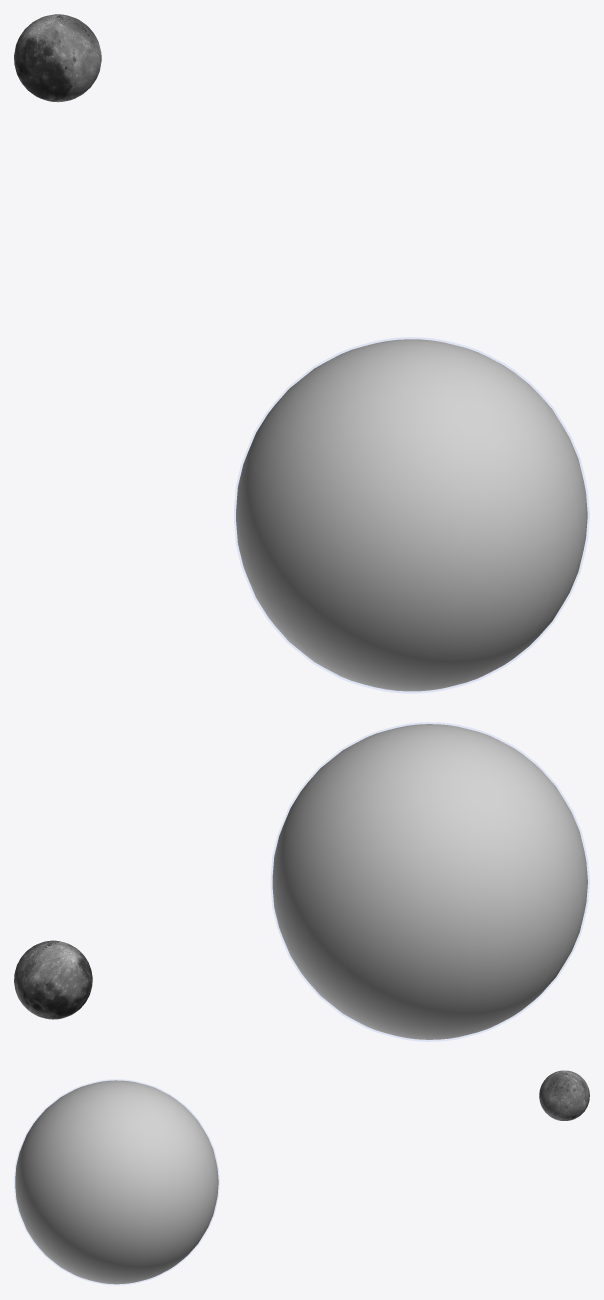
3 renders of one model, top to bottom at view 1: azimuth 30°, elevation 25°; view 2: azimuth 150°, elevation 25°; view 3: azimuth 270°, elevation 25°, orthographic. The views are drawn at different scales.
Visible parts, largest first — view 1: clouds, moon; view 2: clouds, moon; view 3: clouds, moon.
Boxes of the visible parts, x1=… form: clouds: x1=236, y1=339, x2=587, y2=691; moon: x1=14, y1=14, x2=101, y2=102; clouds: x1=272, y1=724, x2=587, y2=1039; moon: x1=14, y1=940, x2=92, y2=1019; clouds: x1=15, y1=1080, x2=218, y2=1284; moon: x1=539, y1=1070, x2=589, y2=1120.
Size of the model in its own units: 2.03 by 2.31 by 5.68.
